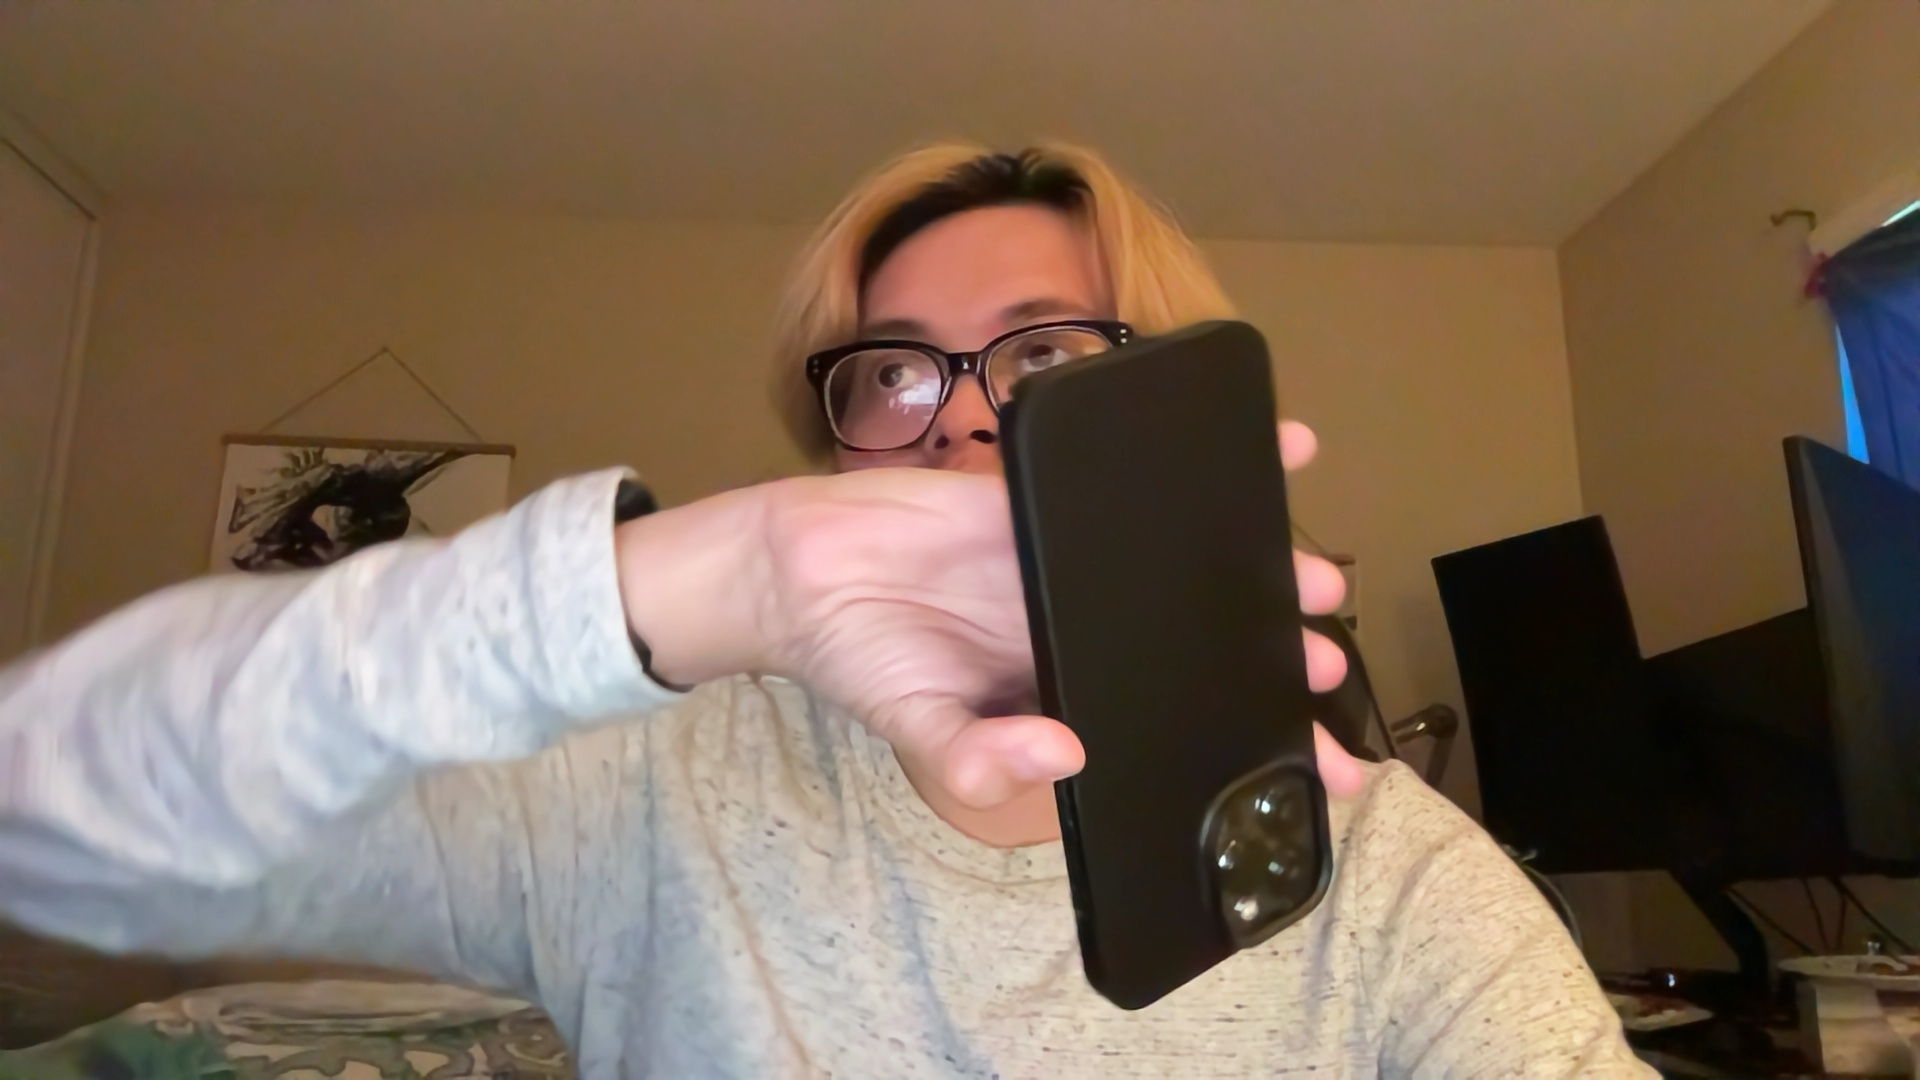phone: (992, 315, 1342, 1018)
